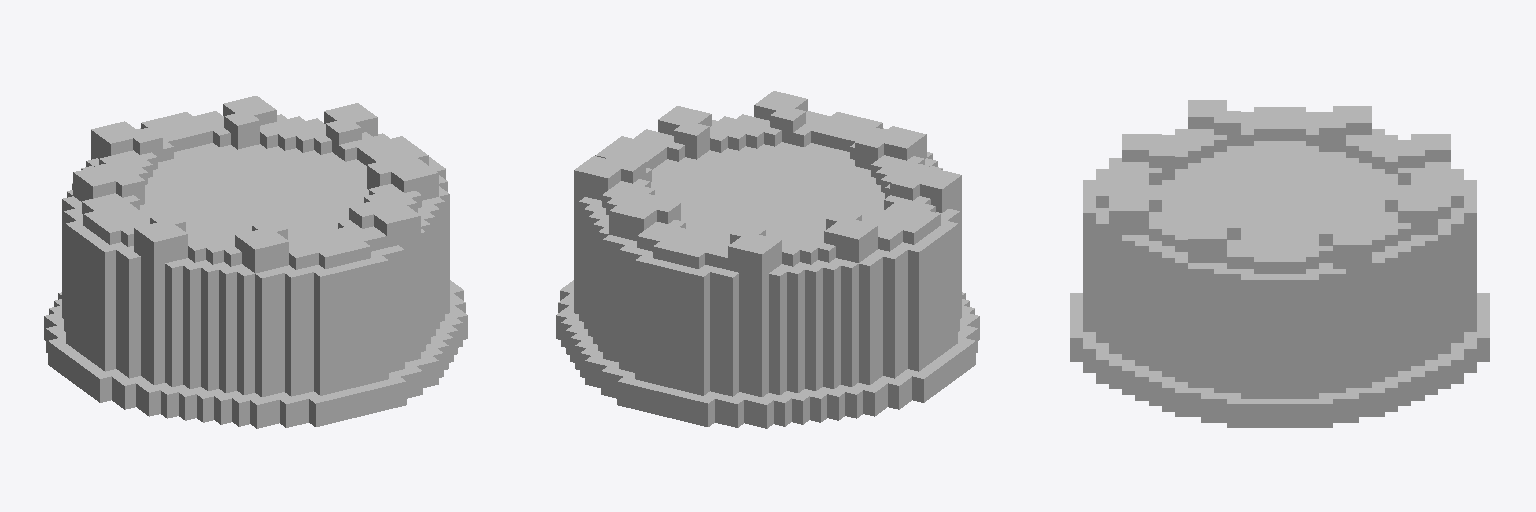
Rendered from carrotcake.obj.
3 renders of one model, left to right at view 1: azimuth 30°, elevation 25°; view 2: azimuth 150°, elevation 25°; view 3: azimuth 270°, elevation 25°, orthographic.
Visible parts, largest first — view 1: object 1; view 2: object 1; view 3: object 1.
Boxes of the visible parts, box(x1,y1,x2,y2) form: object 1: box(44, 96, 467, 428); object 1: box(556, 91, 979, 428); object 1: box(1070, 100, 1489, 427).
Size of the model in its own units: 3.2 by 1.4 by 3.2.